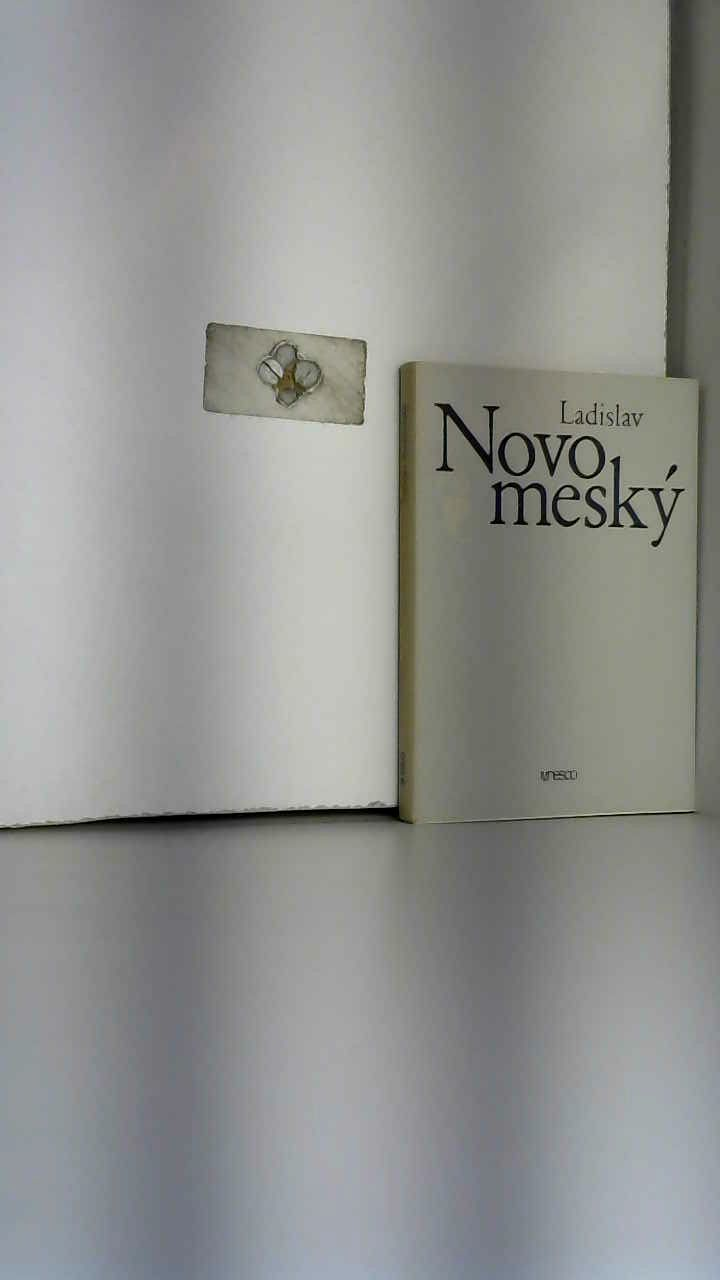book: (361, 328, 720, 856)
